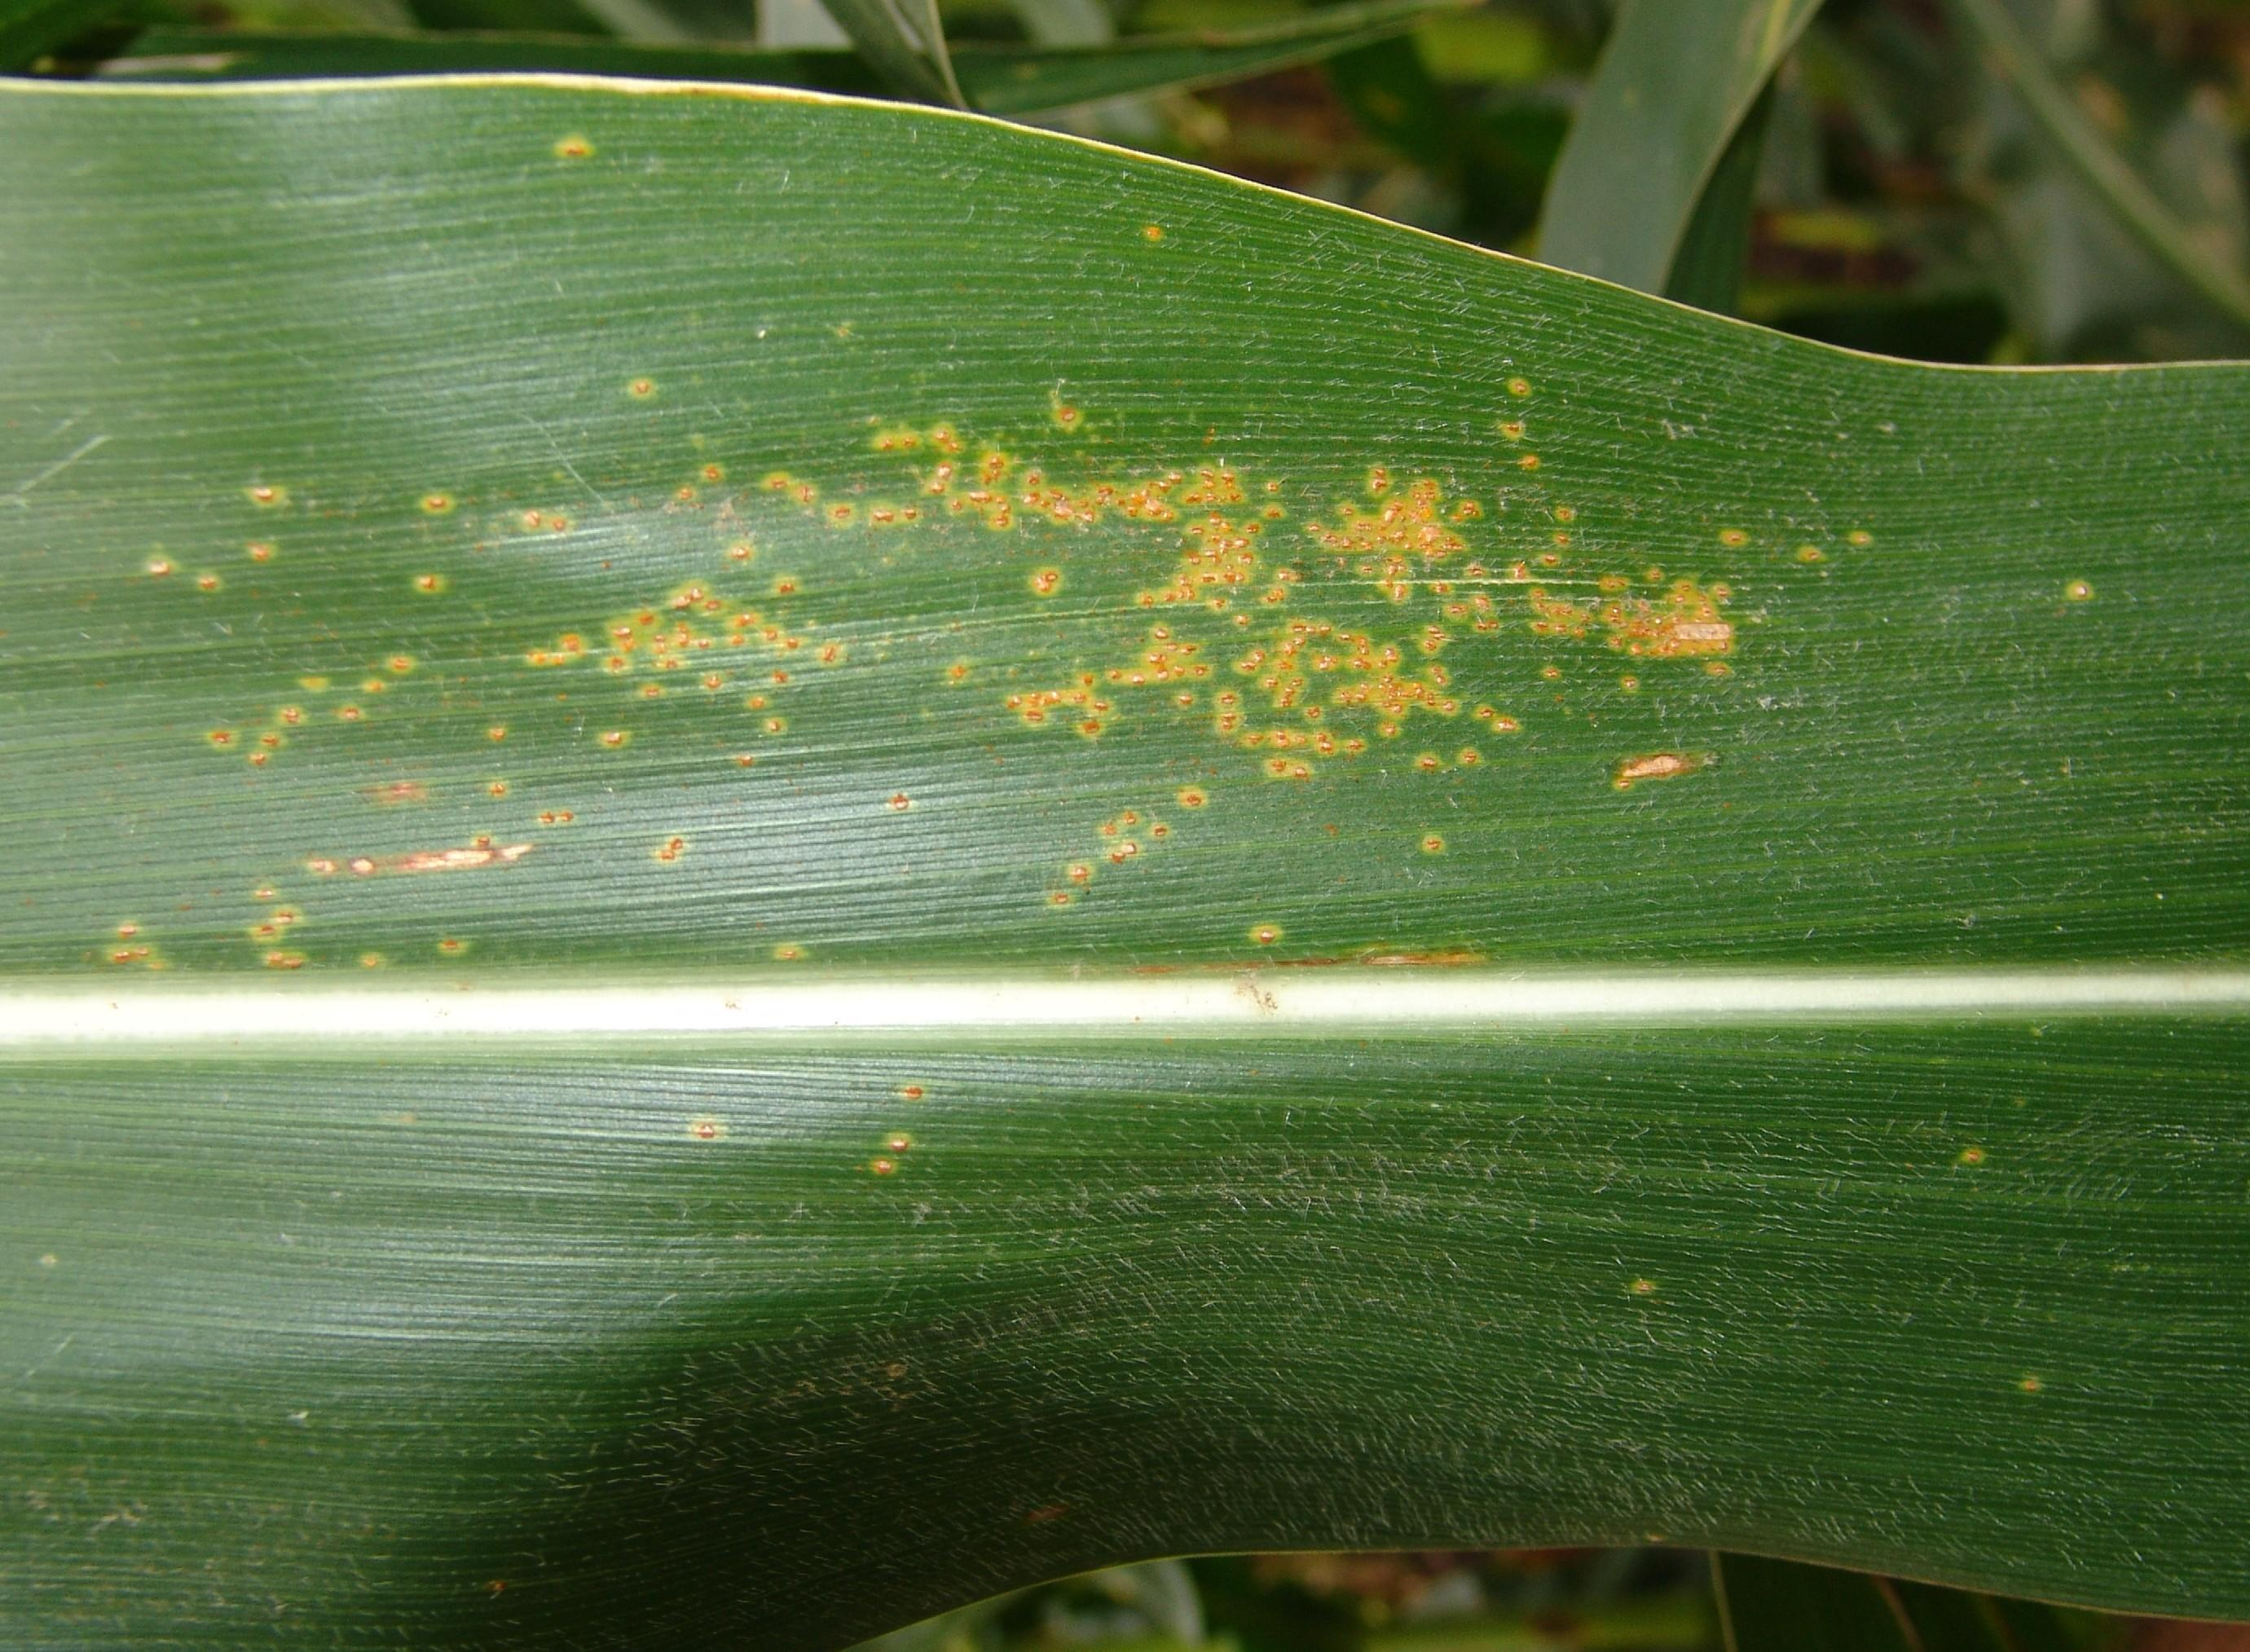Corn_Common_Rust: (89, 379, 1962, 969), (793, 1032, 973, 1261), (468, 86, 657, 262), (1092, 183, 1331, 306), (1991, 1331, 2128, 1493), (963, 1467, 1118, 1603), (756, 1331, 973, 1427), (2021, 541, 2164, 685), (650, 1039, 749, 1235), (1556, 1238, 1686, 1350), (1918, 1135, 2047, 1238)
